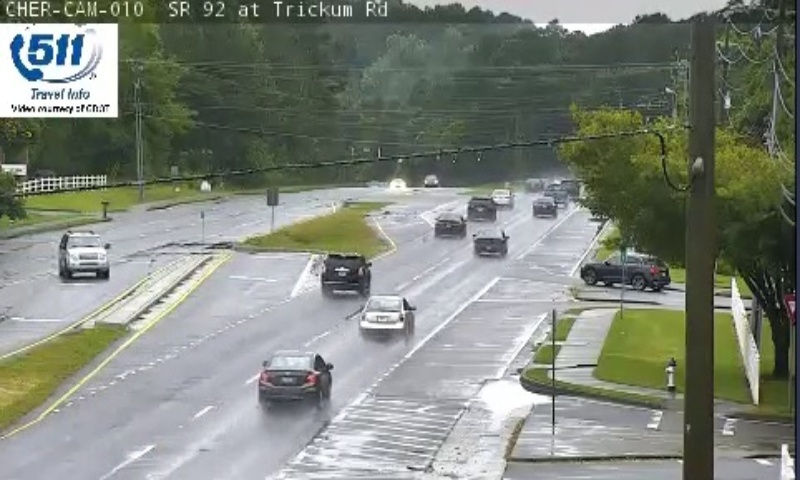car: (258, 353, 331, 406), (360, 294, 413, 333), (320, 252, 370, 288), (473, 227, 507, 256), (434, 211, 467, 238), (466, 194, 494, 220), (531, 196, 554, 216), (489, 187, 512, 207)
